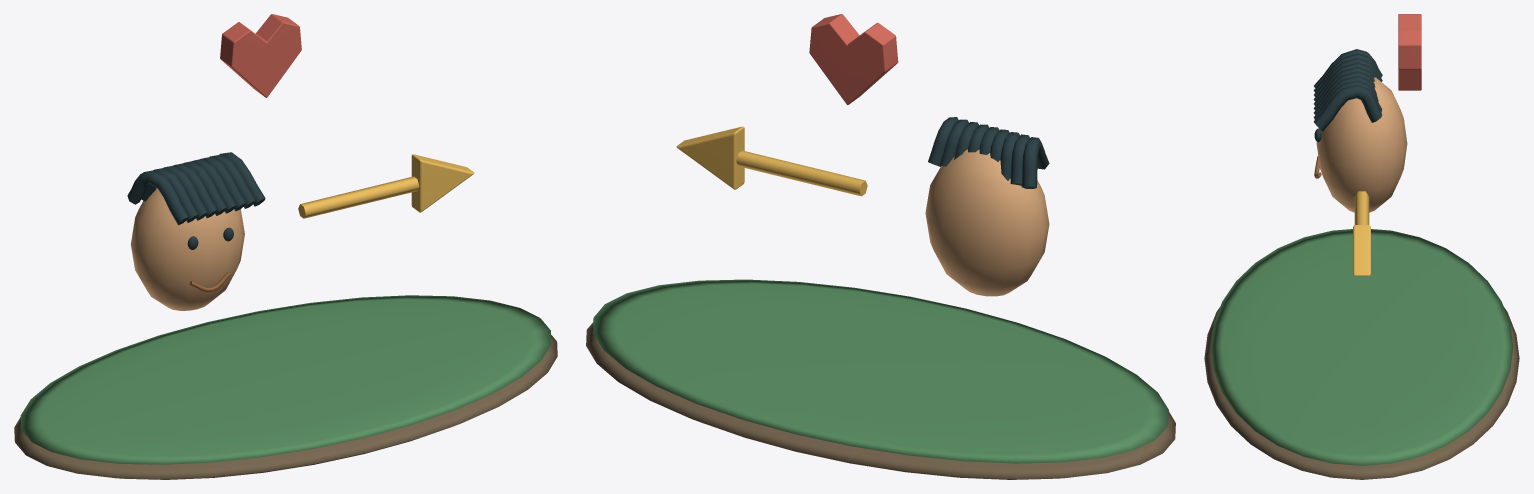
The model's file is complete-third-pleasant-quick-spark.glb.
3 renders of one model, left to right at view 1: azimuth 30°, elevation 25°; view 2: azimuth 150°, elevation 25°; view 3: azimuth 270°, elevation 25°, orthographic. The views are drawn at different scales.
Visible parts, largest first — view 1: complete-third-pleasant-quick-spark_surface_01, complete-third-pleasant-quick-spark_surface_00, complete-third-pleasant-quick-spark_surface_02, complete-third-pleasant-quick-spark_surface_03, complete-third-pleasant-quick-spark_surface_06, complete-third-pleasant-quick-spark_surface_05; view 2: complete-third-pleasant-quick-spark_surface_01, complete-third-pleasant-quick-spark_surface_02, complete-third-pleasant-quick-spark_surface_00, complete-third-pleasant-quick-spark_surface_06, complete-third-pleasant-quick-spark_surface_05, complete-third-pleasant-quick-spark_surface_03; view 3: complete-third-pleasant-quick-spark_surface_01, complete-third-pleasant-quick-spark_surface_02, complete-third-pleasant-quick-spark_surface_00, complete-third-pleasant-quick-spark_surface_03, complete-third-pleasant-quick-spark_surface_06, complete-third-pleasant-quick-spark_surface_05.
Part boxes in pixels (x1,y1,x2,y2): complete-third-pleasant-quick-spark_surface_01: [20, 295, 551, 464]; complete-third-pleasant-quick-spark_surface_00: [14, 335, 557, 479]; complete-third-pleasant-quick-spark_surface_02: [130, 188, 244, 310]; complete-third-pleasant-quick-spark_surface_03: [127, 152, 265, 249]; complete-third-pleasant-quick-spark_surface_06: [220, 14, 301, 97]; complete-third-pleasant-quick-spark_surface_05: [298, 154, 474, 218]; complete-third-pleasant-quick-spark_surface_01: [593, 279, 1168, 463]; complete-third-pleasant-quick-spark_surface_02: [925, 149, 1049, 296]; complete-third-pleasant-quick-spark_surface_00: [586, 322, 1175, 479]; complete-third-pleasant-quick-spark_surface_06: [809, 14, 898, 104]; complete-third-pleasant-quick-spark_surface_05: [676, 126, 867, 196]; complete-third-pleasant-quick-spark_surface_03: [928, 117, 1049, 188]; complete-third-pleasant-quick-spark_surface_01: [1210, 229, 1513, 465]; complete-third-pleasant-quick-spark_surface_02: [1316, 77, 1407, 212]; complete-third-pleasant-quick-spark_surface_00: [1204, 307, 1519, 479]; complete-third-pleasant-quick-spark_surface_03: [1313, 49, 1382, 141]; complete-third-pleasant-quick-spark_surface_06: [1398, 14, 1421, 90]; complete-third-pleasant-quick-spark_surface_05: [1353, 191, 1370, 275].
Bounding box in the file's own units: 4.56 × 3.07 × 2.5.
